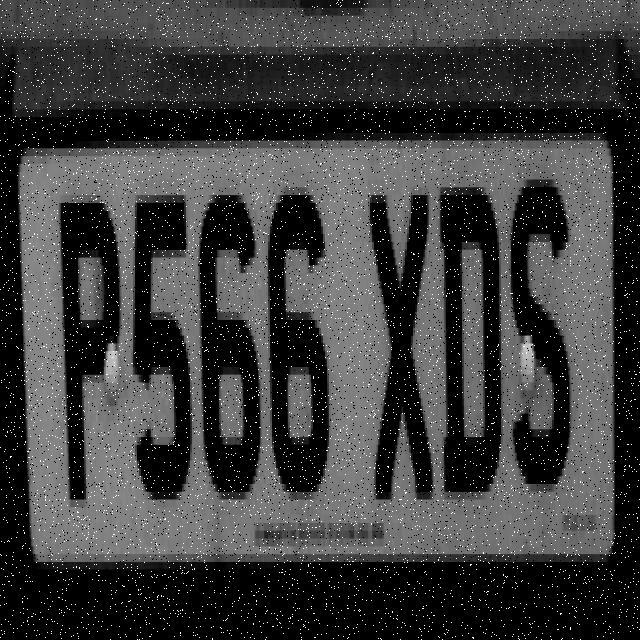LicensePlate: (4, 14, 640, 626)
